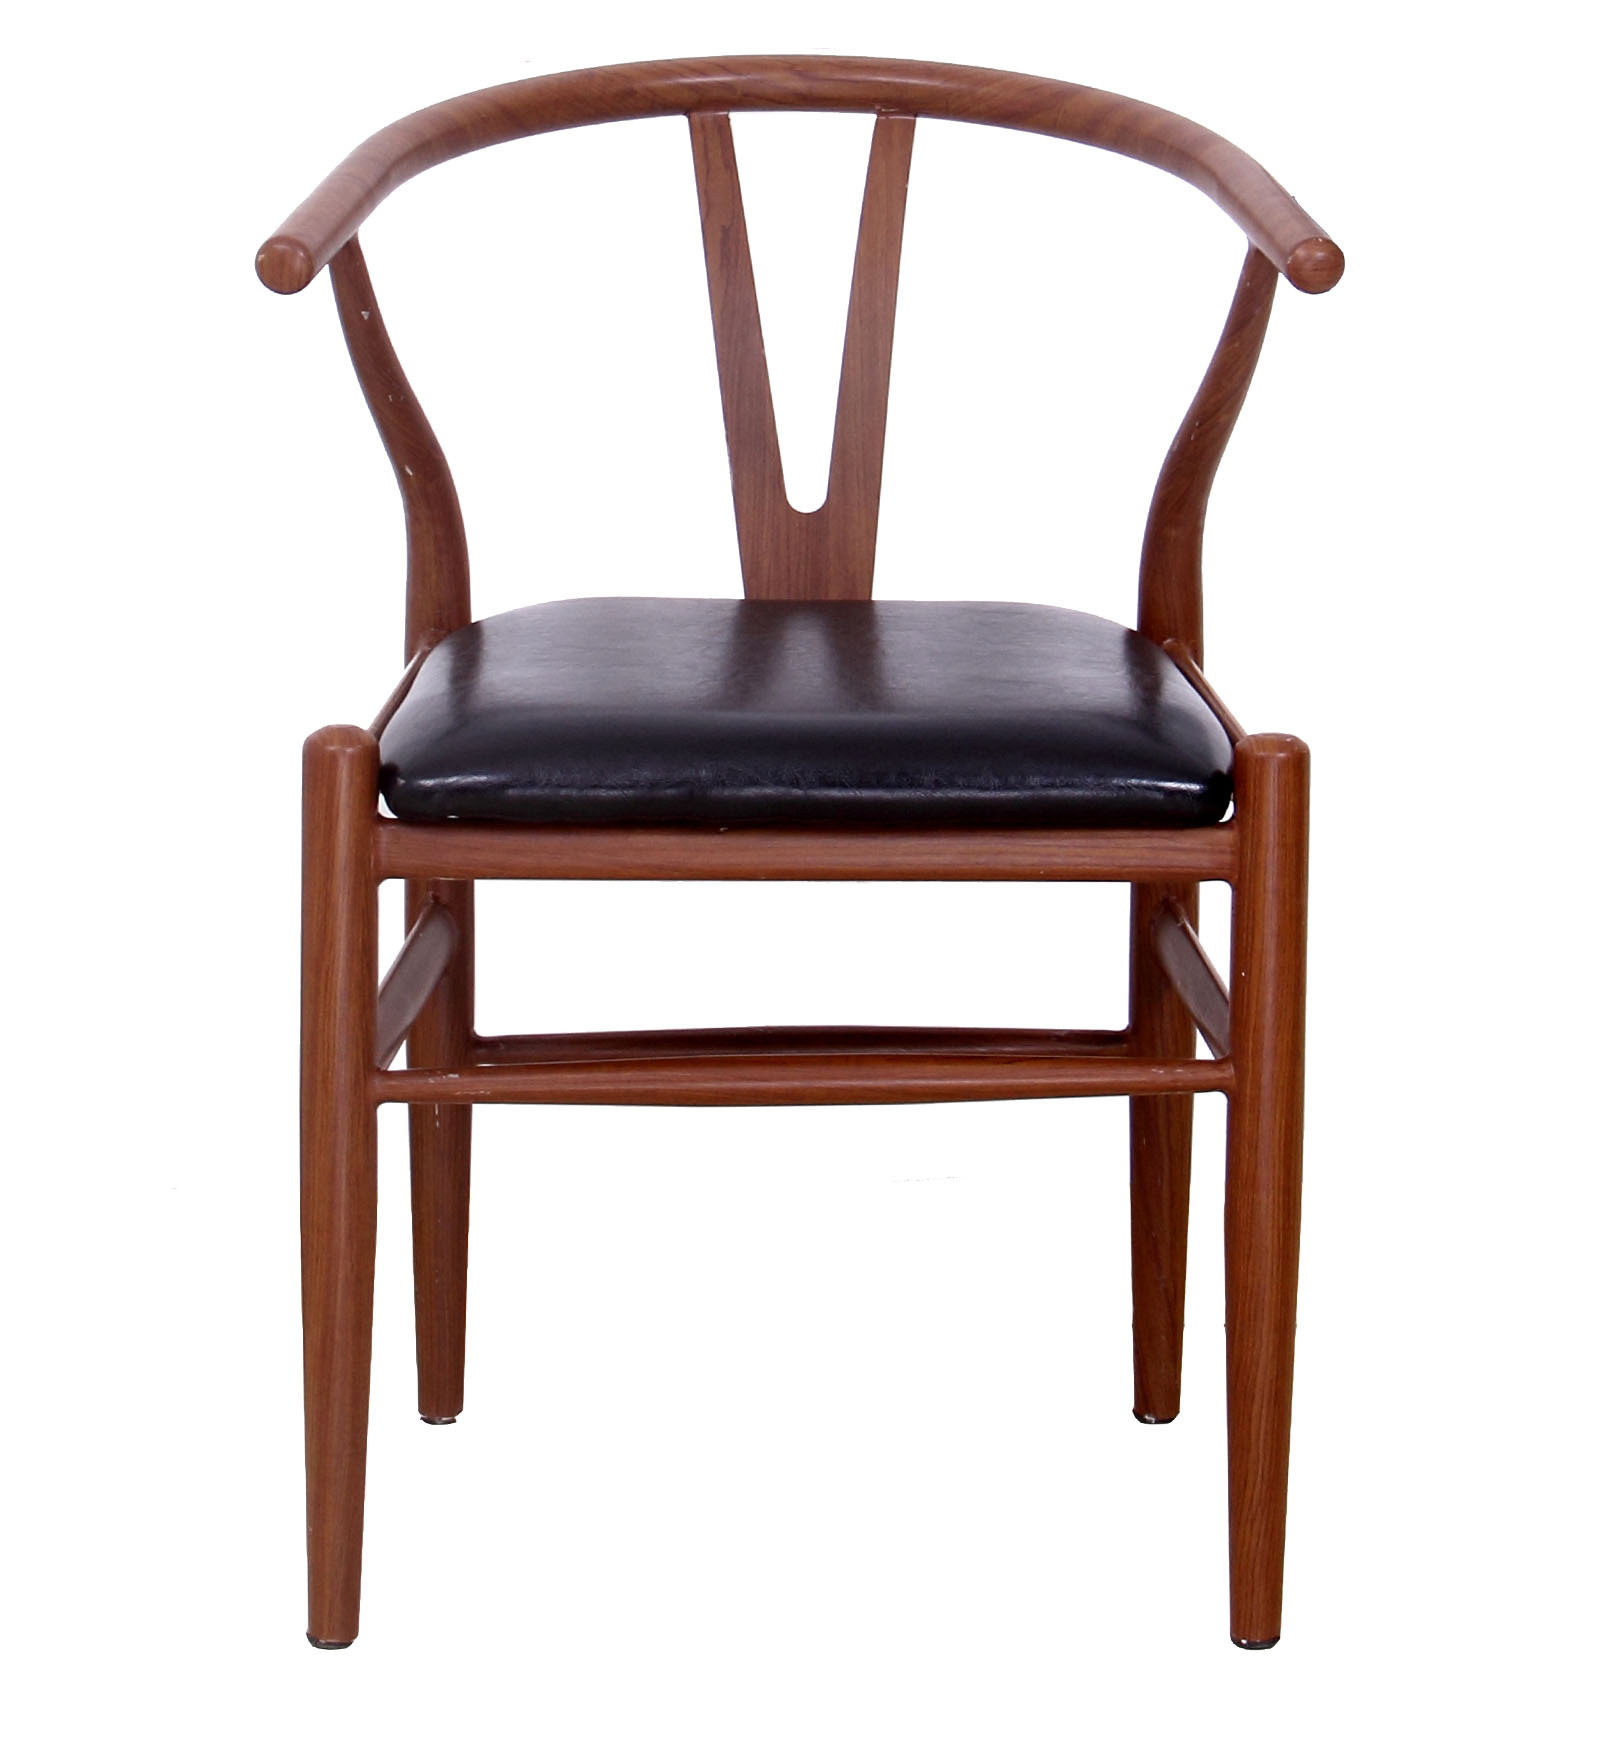Palo Metal Chair (Set of 2) in Walnut Finish by Bohemiana: (230, 32, 1369, 1677)
